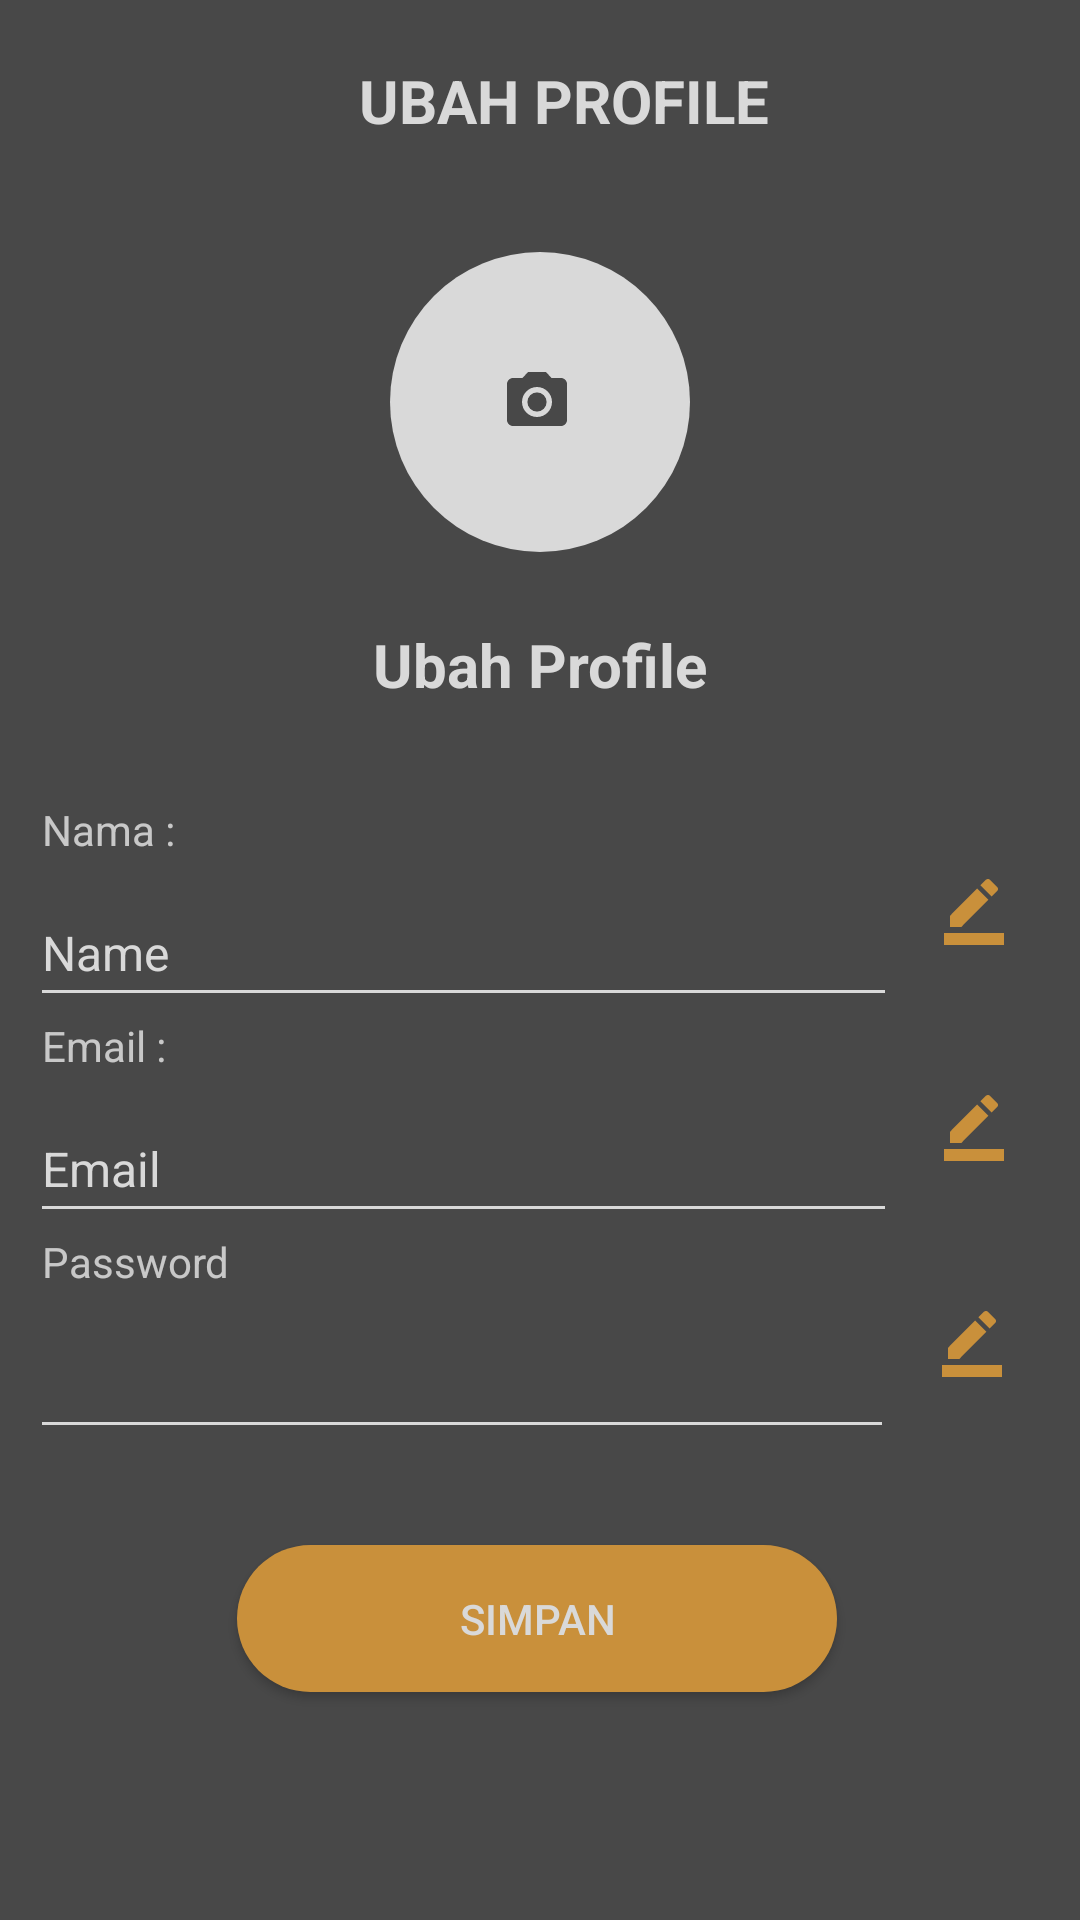

Icon bounding boxes for this 1080 × 1920 phone screenshot, format (x1, y1, x2, y2):
tulis: (944, 879, 1004, 945), (944, 1095, 1004, 1161), (942, 1311, 1002, 1377)
